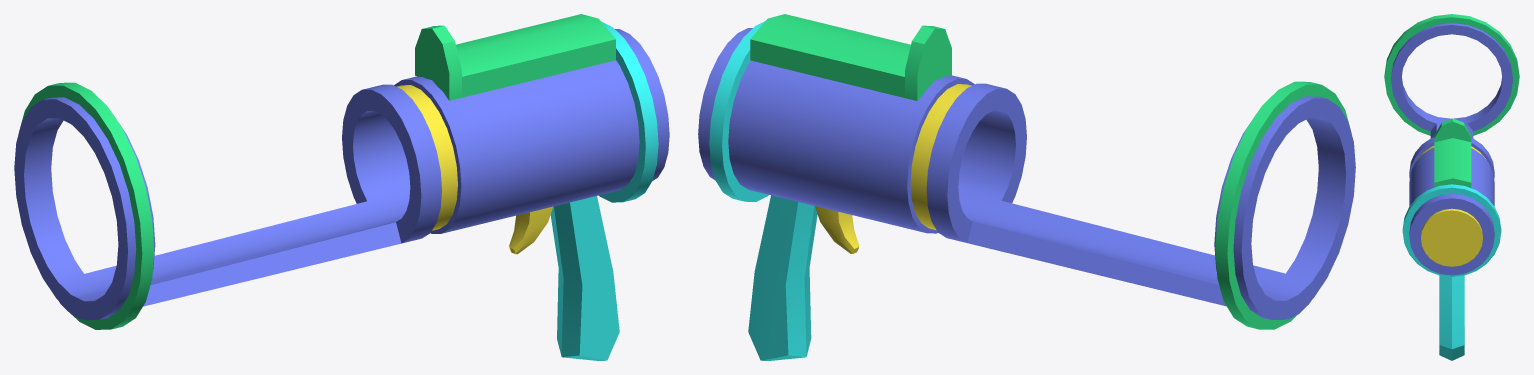
The model's file is SM_Weapon_JumpHigher_02a.fbx.
The picture shows the model from 3 angles, left to right: view 1: azimuth 30°, elevation 25°; view 2: azimuth 150°, elevation 25°; view 3: azimuth 270°, elevation 25°; orthographic projection. The views are drawn at different scales.
Visible parts, largest first — view 1: Weapon_2a; view 2: Weapon_2a; view 3: Weapon_2a.
Boxes of the visible parts, box(x1,y1,x2,y2) form: Weapon_2a: box(14, 14, 669, 360); Weapon_2a: box(698, 14, 1355, 360); Weapon_2a: box(1384, 14, 1519, 360).
Bounding box in the file's own units: 96.2 × 64.01 × 37.09.
